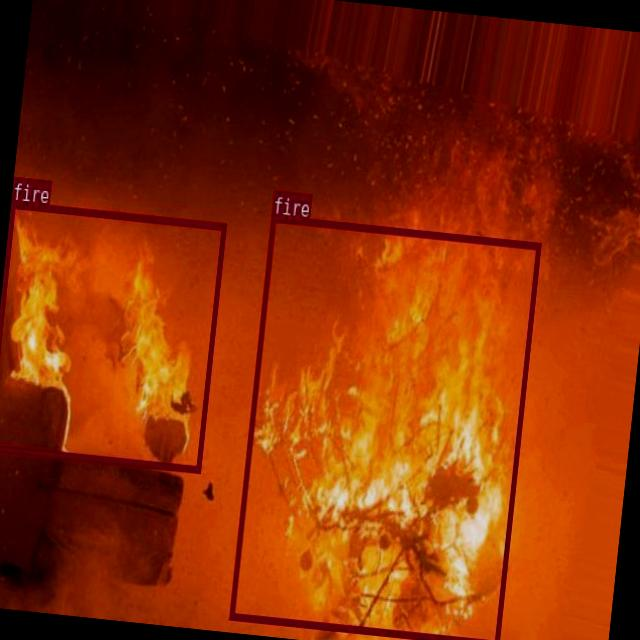fire: (228, 213, 540, 640), (0, 199, 225, 470)
